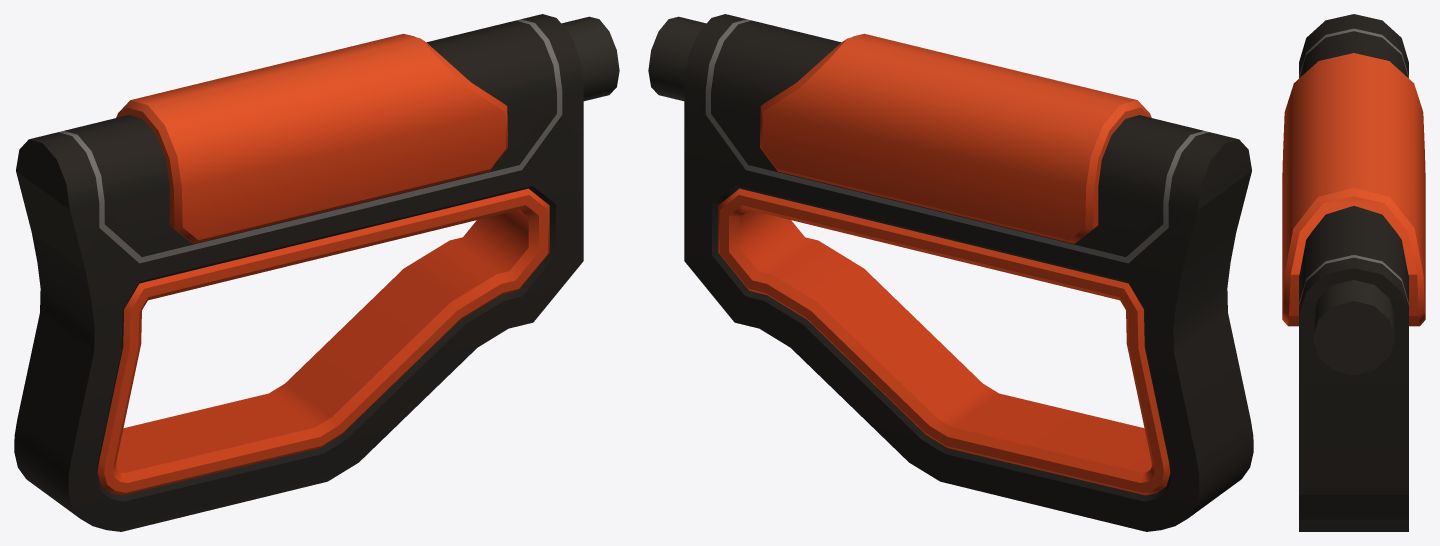
Rendered from AR1_ButtstockLight.fbx.
3 views of the same model, side by side, from view 1: azimuth 30°, elevation 25°; view 2: azimuth 150°, elevation 25°; view 3: azimuth 270°, elevation 25° (orthographic).
Parts seen in each view (by area): view 1: AR1_ButtstockLight; view 2: AR1_ButtstockLight; view 3: AR1_ButtstockLight.
Boxes of the visible parts, left/top/right/bottom form: AR1_ButtstockLight: left=14, top=14, right=619, bottom=531; AR1_ButtstockLight: left=648, top=14, right=1253, bottom=531; AR1_ButtstockLight: left=1282, top=14, right=1425, bottom=531.
Bounding box in the file's own units: 24.46 × 16.51 × 5.36.
